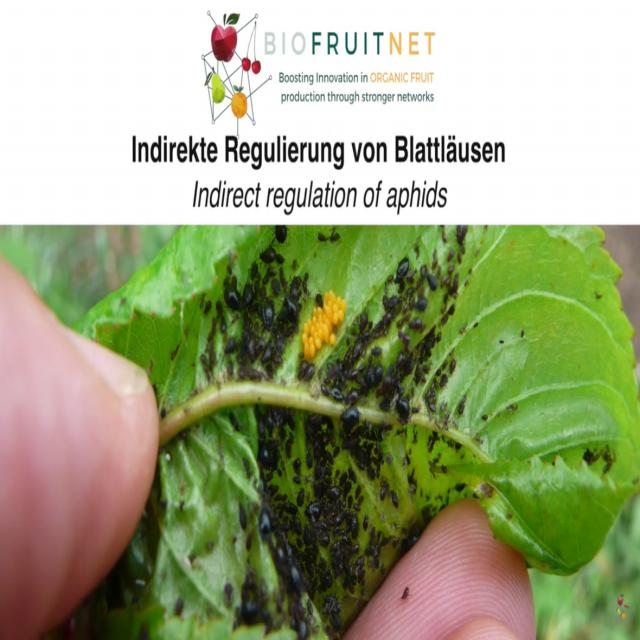Aphid-Grouped-: (242, 402, 388, 633), (307, 252, 460, 433), (208, 229, 306, 395)
